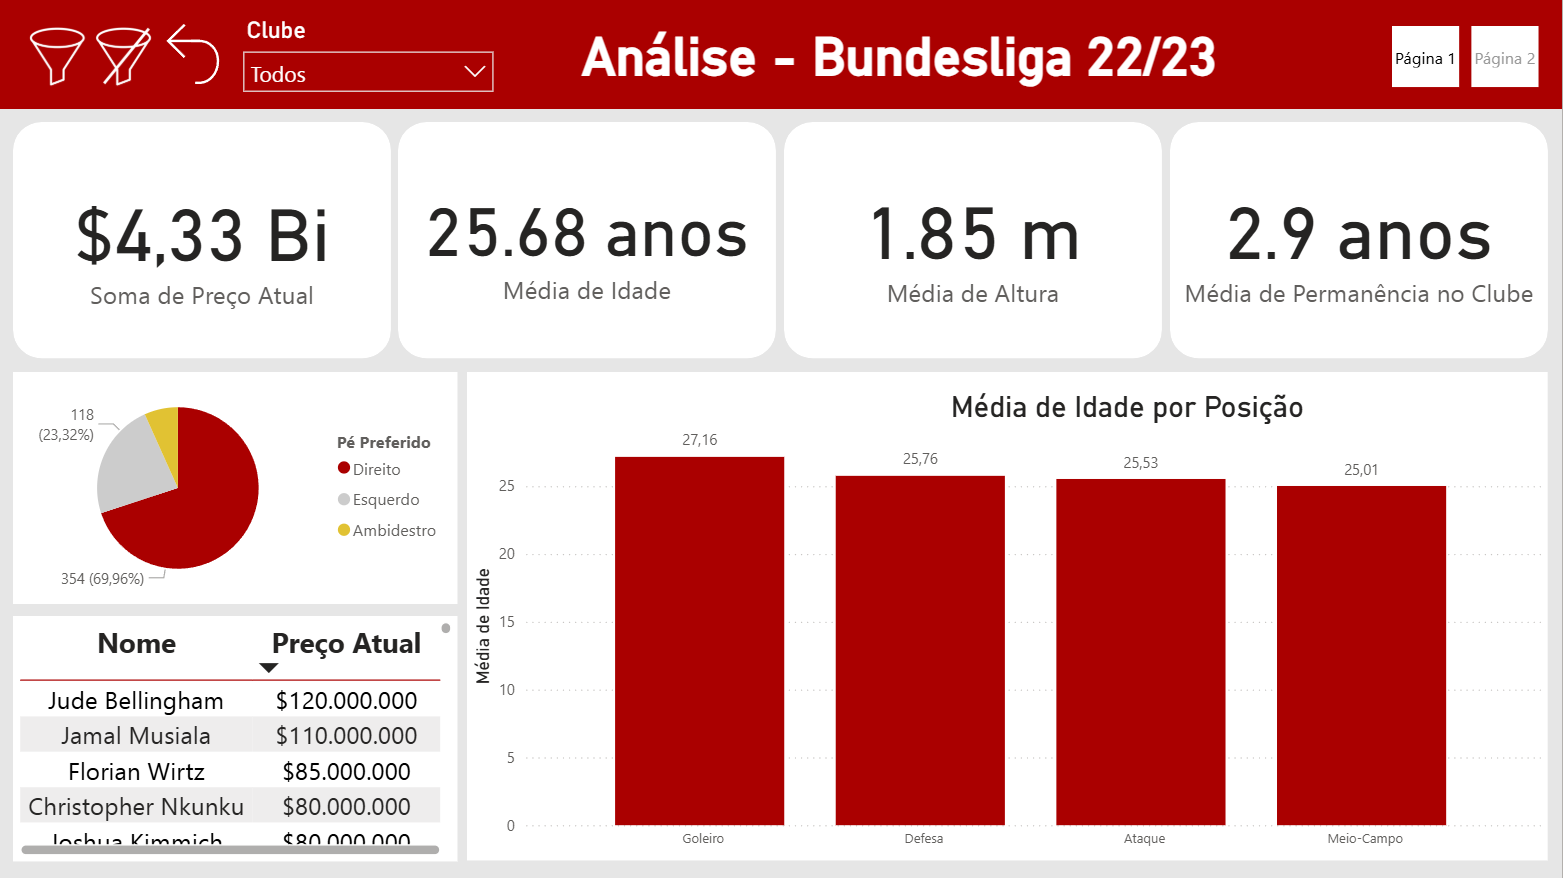

The page's visual inventory and layout, read from the dashboard file:
{"tool":"powerbi","page":{"name":"Página 1","canvas":[1280,720],"ordinal":0},"visuals":[{"type":"textbox","box":[194.7,16.7,1085.3,60.7],"z":1000},{"type":"shape","box":[0,89.1,1280,630.1],"z":2000},{"type":"shape","box":[959.4,99.9,309.5,193.6],"z":3000},{"type":"tableEx","fields":{"Values":["bundesliga_player 2.Nome","Sum(bundesliga_player 2.Preço Atual)"]},"box":[11.7,504.1,364,200.6],"z":4000},{"type":"shape","box":[11.1,99.9,309.5,193.6],"z":5000},{"type":"card","fields":{"Values":["Sum(bundesliga_player 2.Preço Atual)"]},"box":[11.1,133.2,309.5,129.5],"z":6000},{"type":"clusteredColumnChart","title":"_","fields":{"Category":["bundesliga_player 2.Posição"],"Y":["Avg(bundesliga_player 2.Idade)"]},"box":[383.2,304.6,885.2,400.1],"z":7000},{"type":"pieChart","fields":{"Category":["bundesliga_player 2.Pé Preferido"],"Y":["CountNonNull(bundesliga_player 2.Pé Preferido)"]},"box":[11.7,304.6,364,190],"z":8000},{"type":"card","fields":{"Values":["bundesliga_player.Média de Permanência no Clube","select","select1"]},"box":[959.4,131.9,309.5,129.5],"z":9000},{"type":"textbox","box":[578.8,314.4,690,42.9],"z":10000},{"type":"shape","box":[326.8,99.9,309.5,193.6],"z":11000},{"type":"card","fields":{"Values":["bundesliga_player.Média de Idade (com texto)"]},"box":[326.8,131.9,309.5,129.5],"z":12000},{"type":"pageNavigator","box":[1141.2,21.4,120.4,50],"z":13000},{"type":"actionButton","box":[126.8,8.5,64,71.2],"z":14000},{"type":"shape","box":[642.5,99.9,309.5,193.6],"z":15000},{"type":"card","fields":{"Values":["bundesliga_player.Média de Altura (m)"]},"box":[642.5,131.9,309.5,129.5],"z":16000},{"type":"image","box":[19.3,7.2,114.7,77.3],"z":17000},{"type":"actionButton","box":[19.3,8.5,58,68.8],"z":18000},{"type":"actionButton","box":[76.1,8.5,58,68.8],"z":19000},{"type":"slicer","fields":{"Values":["bundesliga_player 2.Clube"]},"box":[189.6,8.5,224.6,68.8],"z":19500}]}

Visuals, with their boxes in screenshot pixels (x1, y1, x2, y2), scaled from the page's 1280x720 canvas onto the 1563x878 screenshot:
textbox: [238,20,1562,94]
shape: [0,109,1562,877]
shape: [1172,122,1549,358]
tableEx - bundesliga_player 2.Nome x Sum(bundesliga_player 2.Preço Atual): [14,615,459,859]
shape: [14,122,391,358]
card - Sum(bundesliga_player 2.Preço Atual): [14,162,391,320]
"_" clusteredColumnChart: [468,371,1549,859]
pieChart - bundesliga_player 2.Pé Preferido x CountNonNull(bundesliga_player 2.Pé Preferido): [14,371,459,603]
card - bundesliga_player.Média de Permanência no Clube x select: [1172,161,1549,319]
textbox: [707,383,1549,436]
shape: [399,122,777,358]
card - bundesliga_player.Média de Idade (com texto): [399,161,777,319]
pageNavigator: [1394,26,1541,87]
actionButton: [155,10,233,97]
shape: [785,122,1162,358]
card - bundesliga_player.Média de Altura (m): [785,161,1162,319]
image: [24,9,164,103]
actionButton: [24,10,94,94]
actionButton: [93,10,164,94]
slicer - bundesliga_player 2.Clube: [232,10,506,94]
